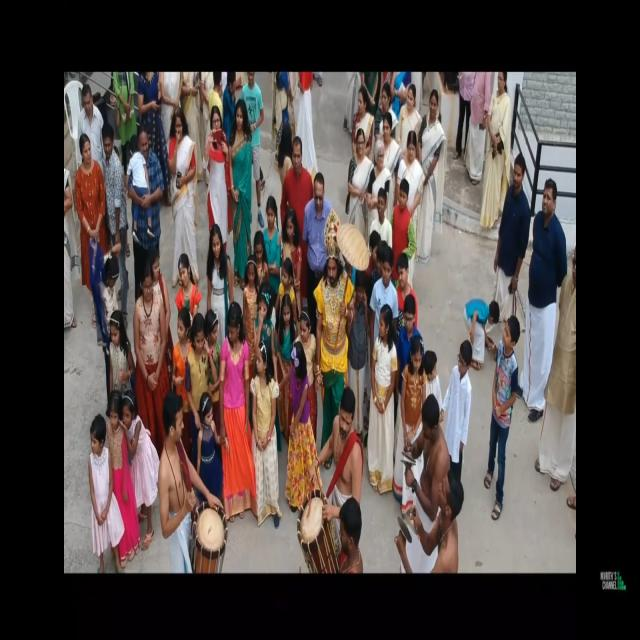humans: (534, 238, 576, 513), (527, 174, 565, 434), (219, 300, 257, 530), (483, 314, 523, 530), (398, 396, 448, 563), (392, 472, 468, 577), (100, 120, 137, 324), (312, 202, 344, 416), (249, 335, 285, 521), (156, 391, 191, 577), (493, 149, 528, 330), (278, 342, 318, 500), (106, 390, 141, 567), (122, 388, 158, 552), (166, 99, 201, 255), (85, 412, 118, 577), (324, 376, 368, 499), (370, 297, 397, 495), (228, 95, 256, 284), (134, 260, 167, 418), (441, 329, 477, 473), (395, 330, 425, 492), (482, 72, 508, 240), (422, 89, 444, 272), (138, 122, 166, 258), (304, 168, 332, 304), (200, 102, 230, 228), (185, 309, 216, 425), (350, 275, 371, 441), (463, 285, 500, 374), (193, 388, 223, 495), (75, 128, 104, 238), (86, 234, 123, 320), (126, 135, 154, 246), (280, 128, 313, 217), (104, 304, 135, 394), (396, 132, 426, 222), (204, 222, 234, 308), (345, 129, 369, 225), (337, 499, 366, 577), (367, 248, 399, 306), (77, 79, 104, 143), (394, 179, 415, 260), (168, 300, 187, 387), (241, 253, 262, 329), (176, 251, 203, 309), (396, 291, 420, 355), (368, 184, 395, 240), (349, 86, 374, 146), (264, 187, 283, 265), (368, 137, 393, 192), (282, 208, 302, 269), (397, 84, 422, 132), (374, 86, 396, 139), (205, 302, 225, 353), (423, 348, 443, 397), (396, 247, 412, 301), (152, 242, 171, 282), (253, 225, 267, 270)
